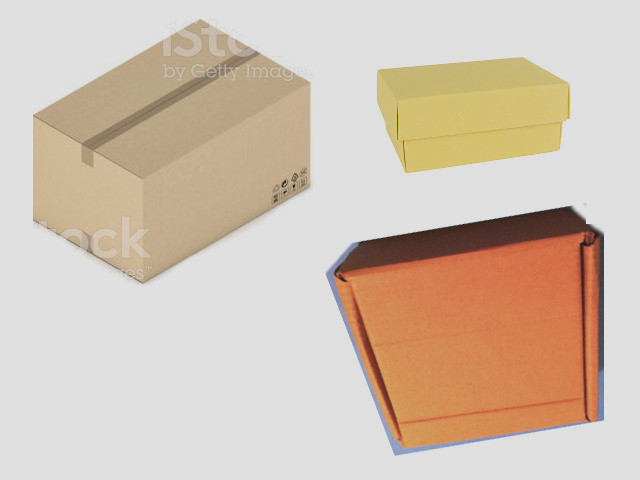cardboard: (32, 19, 311, 283), (336, 208, 598, 449), (376, 56, 568, 172)
